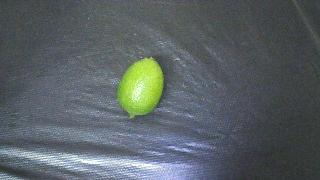LOCAL: (117, 58, 164, 118)
